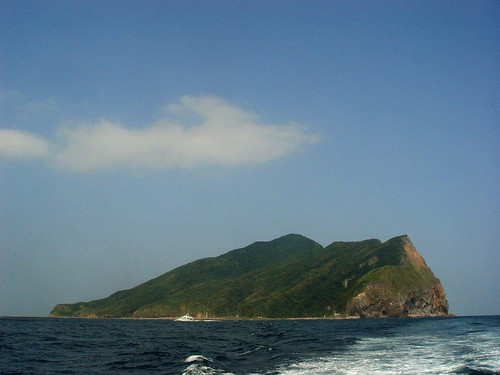turtleIsland: (38, 232, 457, 321)
